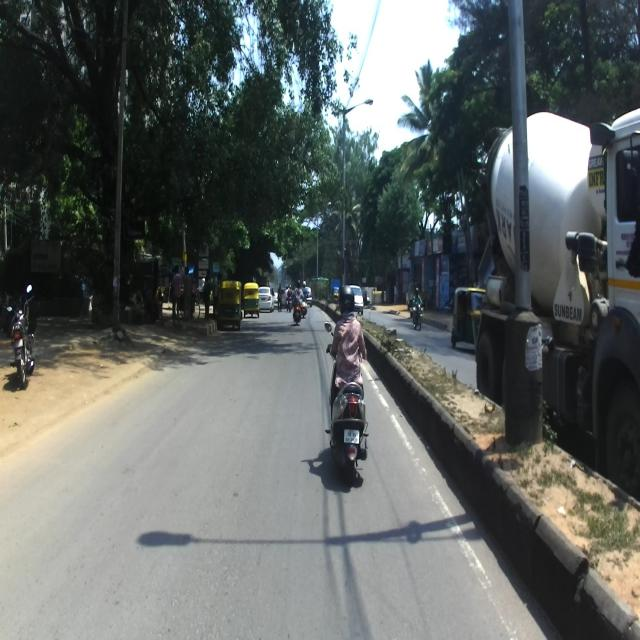autorickshaw: (219, 279, 243, 330)
motorcycle_Hero: (7, 284, 35, 394), (409, 297, 425, 330)
scooter: (322, 318, 370, 489)
truck: (473, 108, 640, 501)
